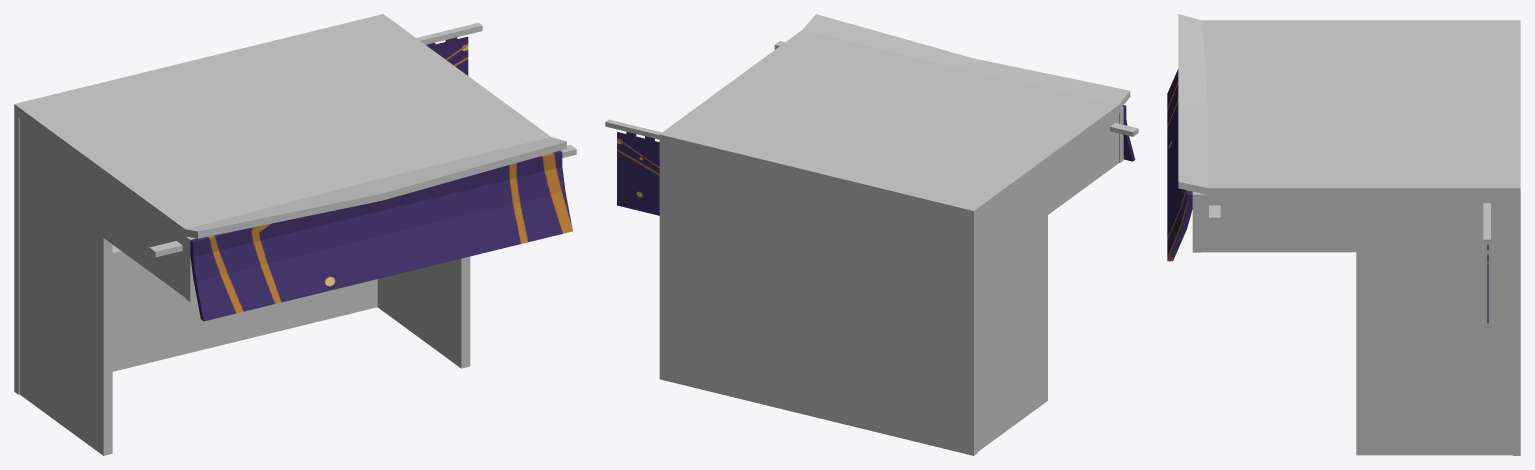
File: NEW_MaskShop.fbx
3 views of the same model, side by side, from view 1: azimuth 30°, elevation 25°; view 2: azimuth 150°, elevation 25°; view 3: azimuth 270°, elevation 25° (orthographic). The views are drawn at different scales.
Parts seen in each view (by area): view 1: Candybooth, Poster; view 2: Candybooth, Poster; view 3: Candybooth.
Part boxes in pixels (<box>): Candybooth: <box>14,14,576,455</box>; Poster: <box>426,36,468,75</box>; Candybooth: <box>605,14,1138,455</box>; Poster: <box>617,131,659,215</box>; Candybooth: <box>1167,14,1520,455</box>.
Size of the model in its own units: 430 by 255 by 297.
